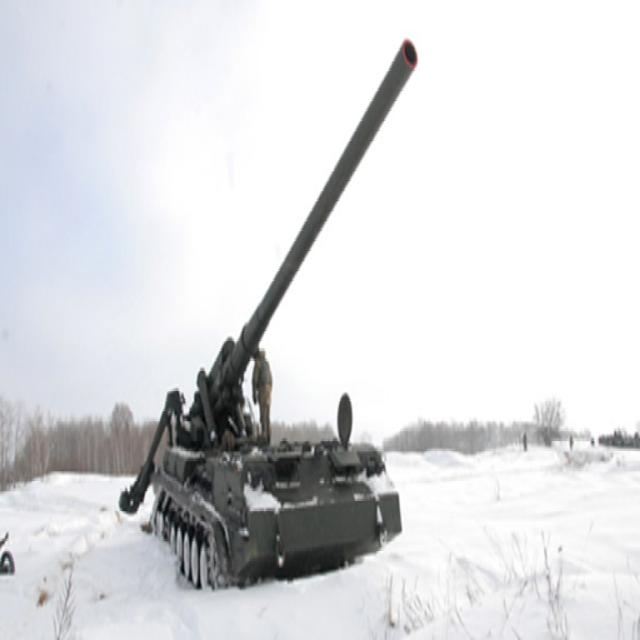ART: (119, 34, 419, 592)
